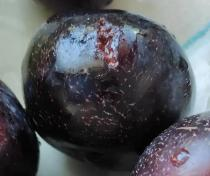plum_C: (21, 9, 197, 165)
